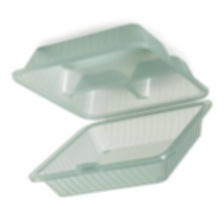plastic_box: (5, 17, 217, 204)
